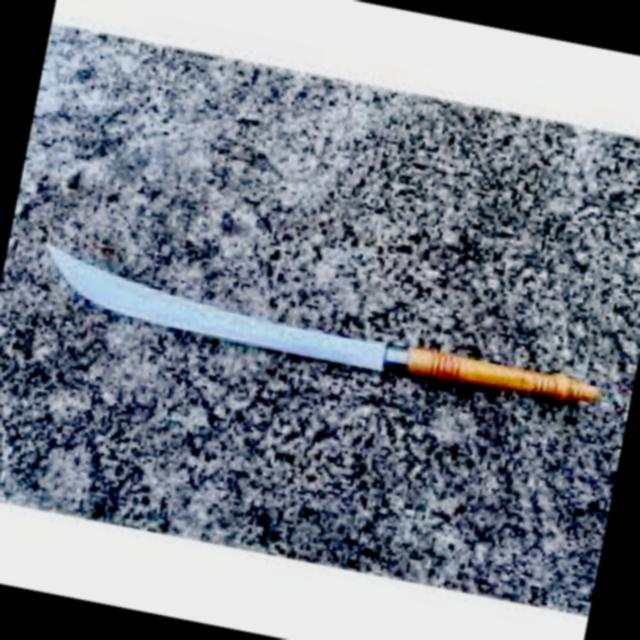long sword: (17, 234, 609, 434)
